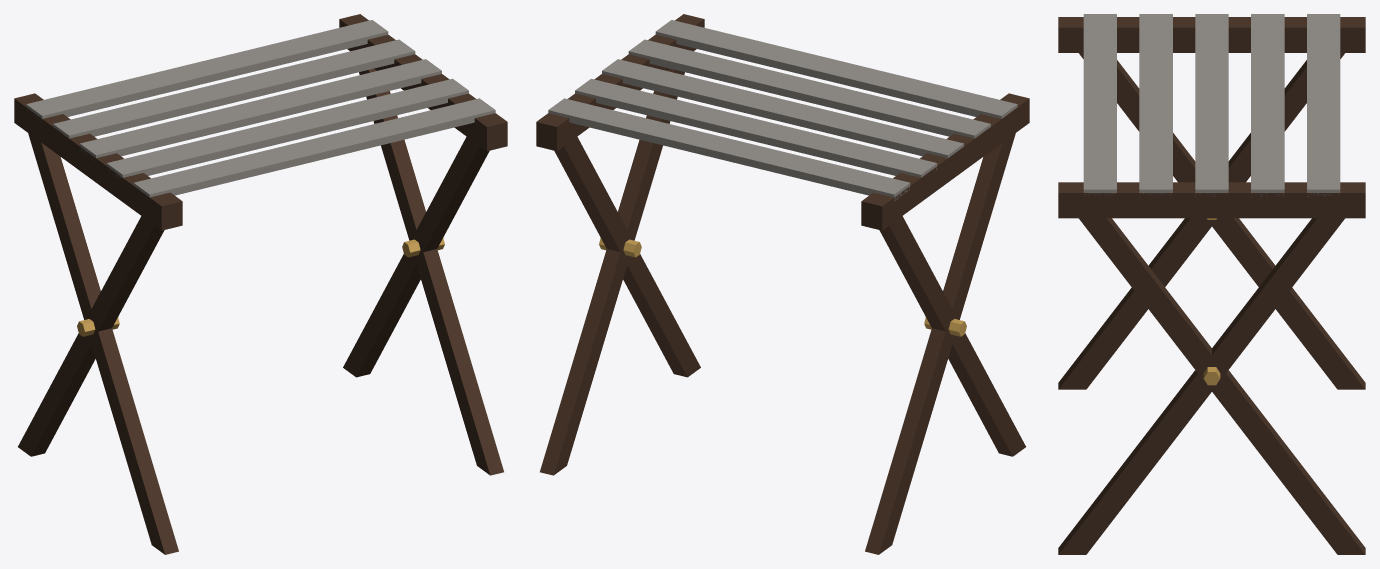
File: FN_Rack_Luggage.glb
3 renders of one model, left to right at view 1: azimuth 30°, elevation 25°; view 2: azimuth 150°, elevation 25°; view 3: azimuth 270°, elevation 25°, orthographic. The views are drawn at different scales.
Visible parts, largest first — view 1: FN_Rack_Luggage; view 2: FN_Rack_Luggage; view 3: FN_Rack_Luggage.
Part boxes in pixels (x1,y1,x2,y2): FN_Rack_Luggage: (14,14,507,554); FN_Rack_Luggage: (536,14,1029,554); FN_Rack_Luggage: (1058,14,1365,554).
Bounding box in the file's own units: 0.62 × 0.58 × 0.44.
Materials: 1 (1 with a texture image).
